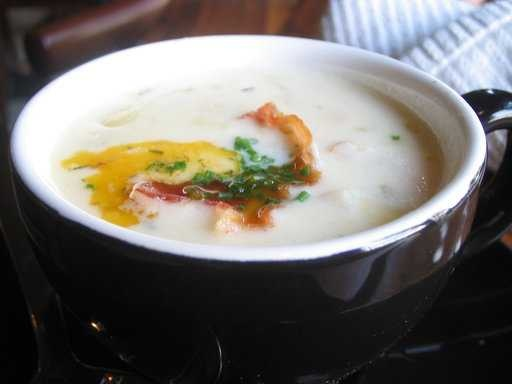soup: (53, 29, 447, 278)
